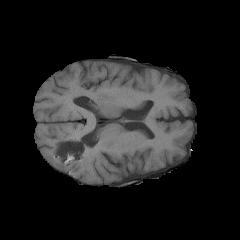glioma: (56, 137, 96, 177)
